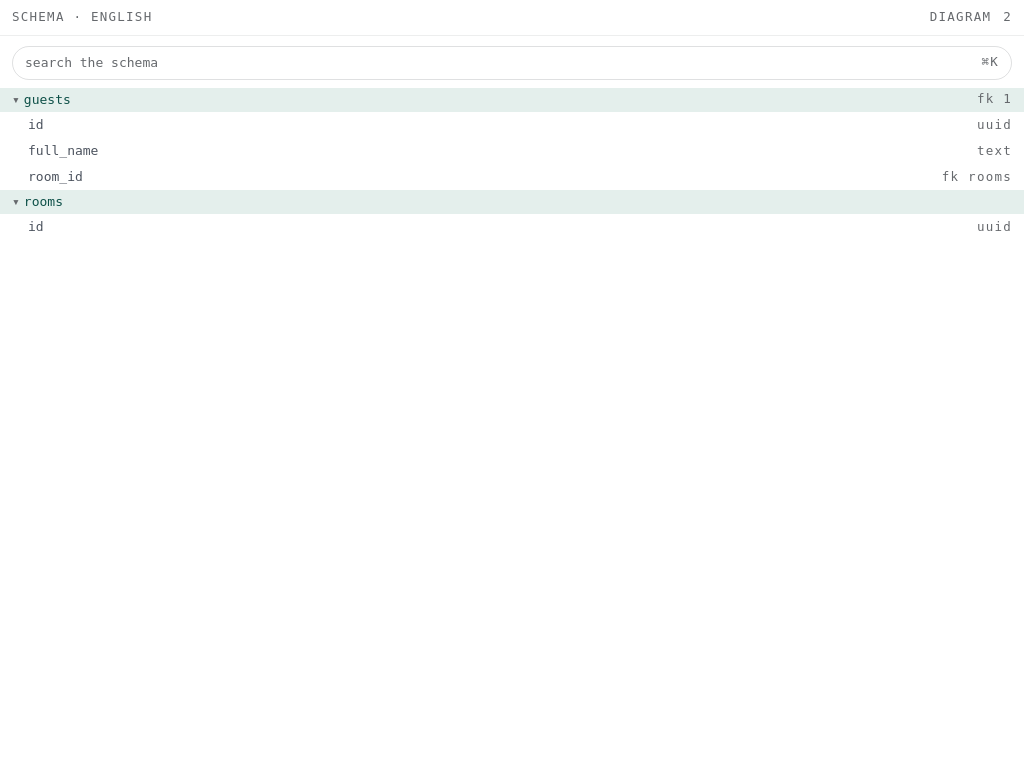
Scenario: the schema panel › offers the schema as a diagram
The width and height of the screenshot is (1024, 768).
Click the button with aria-label "Open the schema as a diagram".
click(960, 17)  # box [930,8,991,27]
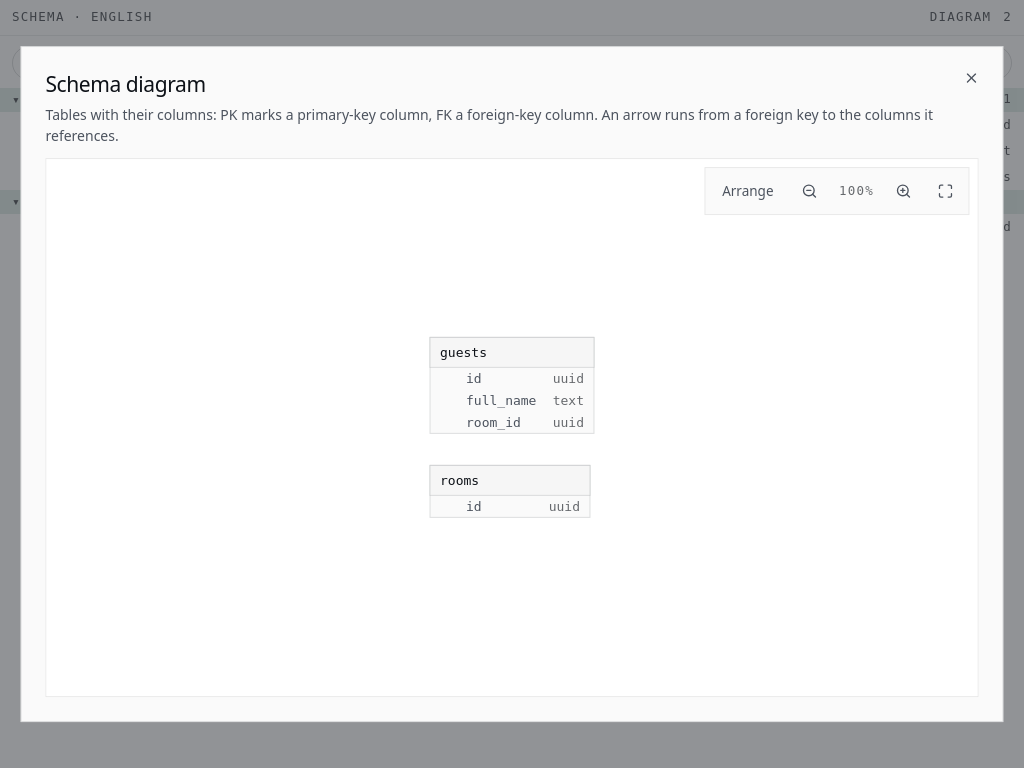
Now the dialog "Schema diagram" is shown
